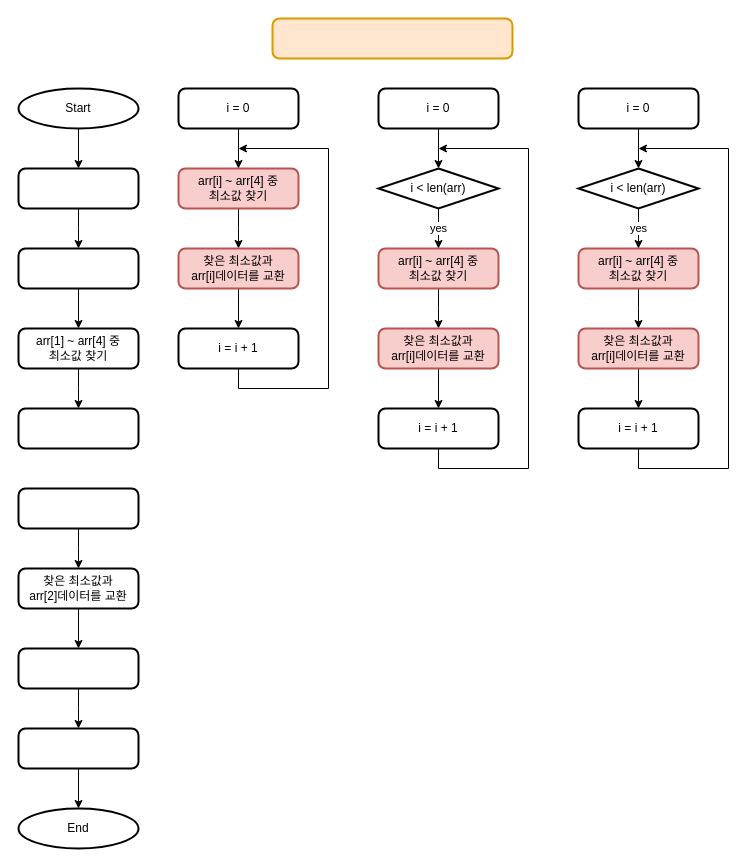
Some shapes in this 754 by 866 pixel diagram are drawn without their labels. Here are the shapes that lost their labels. From the top down, the box of each, then its label:
(271, 17, 513, 59): 정렬 - 단순 탐색법
(17, 167, 139, 209): arr[0] ~ arr[4] 중 최소값 찾기
(17, 247, 139, 289): 찾은 최소값과 arr[0]데이터를 교환
(17, 407, 139, 449): 찾은 최소값과 arr[1]데이터를 교환
(17, 487, 139, 529): arr[2] ~ arr[4] 중 최소값 찾기
(17, 647, 139, 689): arr[3] ~ arr[4] 중 최소값 찾기
(17, 727, 139, 769): 찾은 최소값과 arr[3]데이터를 교환
